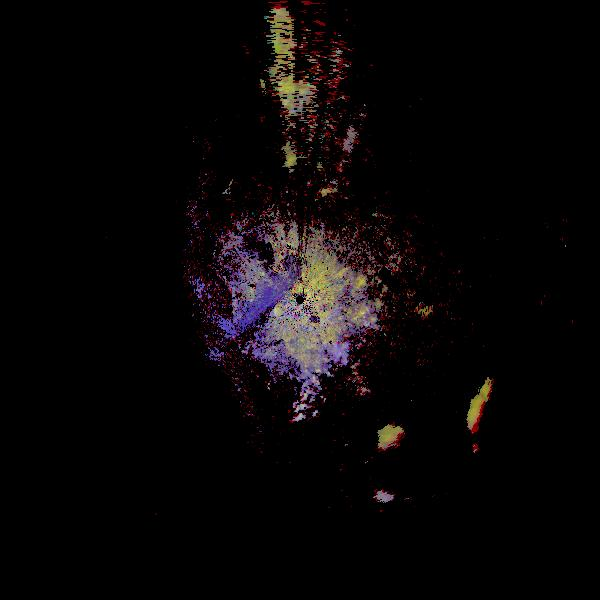roost: (349, 383, 520, 554), (443, 337, 600, 520), (233, 321, 350, 438)
